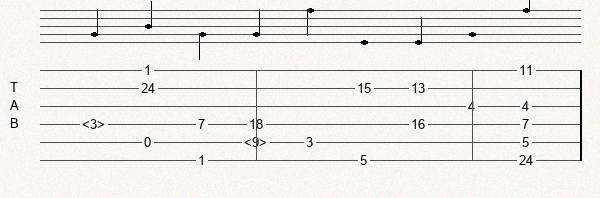0: (144, 135, 155, 149)
1: (144, 63, 155, 77), (198, 153, 209, 167)
11: (519, 63, 537, 77)
13: (411, 81, 429, 95)
15: (357, 81, 375, 95)
16: (411, 117, 429, 131)
18: (249, 117, 267, 131)
24: (141, 81, 159, 95), (519, 153, 537, 167)
3: (306, 135, 317, 149)
4: (468, 99, 479, 113), (522, 99, 533, 113)
5: (360, 153, 371, 167), (522, 135, 533, 149)
7: (198, 117, 209, 131), (522, 117, 533, 131)
harmonic: (82, 117, 109, 131), (244, 135, 271, 149)
